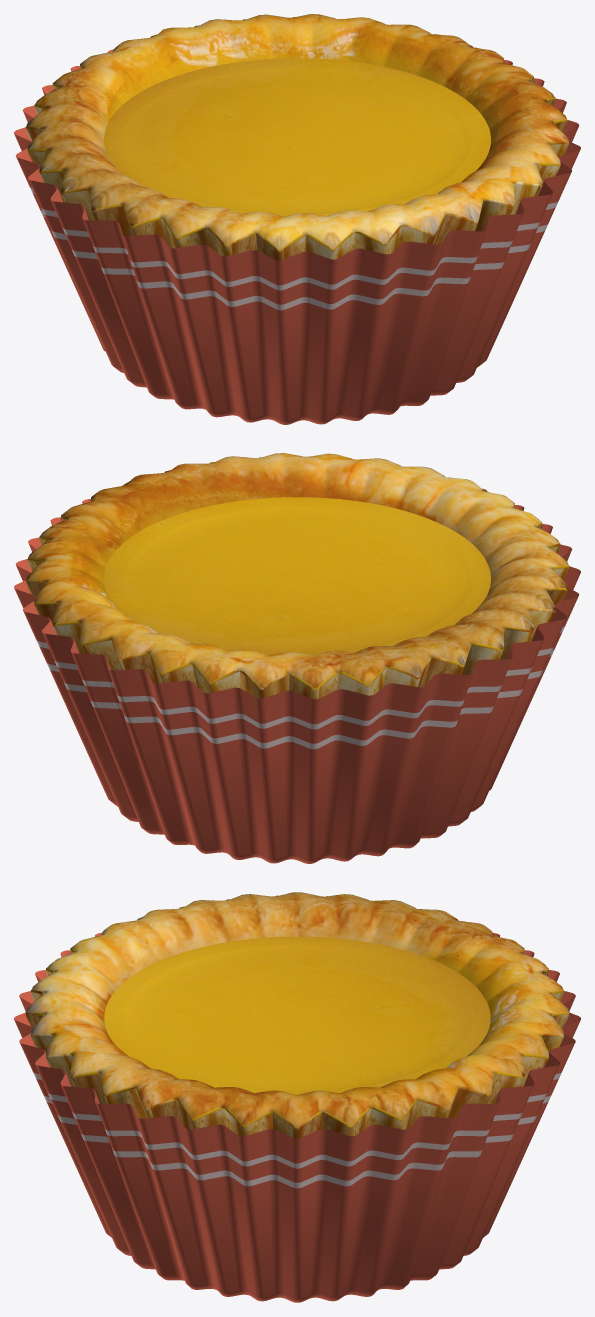
The model's file is eggtart.glb.
3 renders of one model, top to bottom at view 1: azimuth 30°, elevation 25°; view 2: azimuth 150°, elevation 25°; view 3: azimuth 270°, elevation 25°, orthographic.
Parts seen in each view (by area): view 1: outer, tart, inner; view 2: outer, tart, inner; view 3: outer, tart, inner.
Boxes of the visible parts, x1,y1,x2,y2 form: outer: (14, 45, 580, 424); tart: (26, 14, 568, 260); inner: (104, 58, 490, 216); outer: (14, 484, 580, 863); tart: (26, 453, 568, 699); inner: (104, 497, 490, 655); outer: (14, 932, 580, 1302); tart: (25, 892, 569, 1138); inner: (104, 936, 490, 1094).
Size of the model in its own units: 1.98 by 0.8782 by 1.98.
5 materials, 3 textured.
